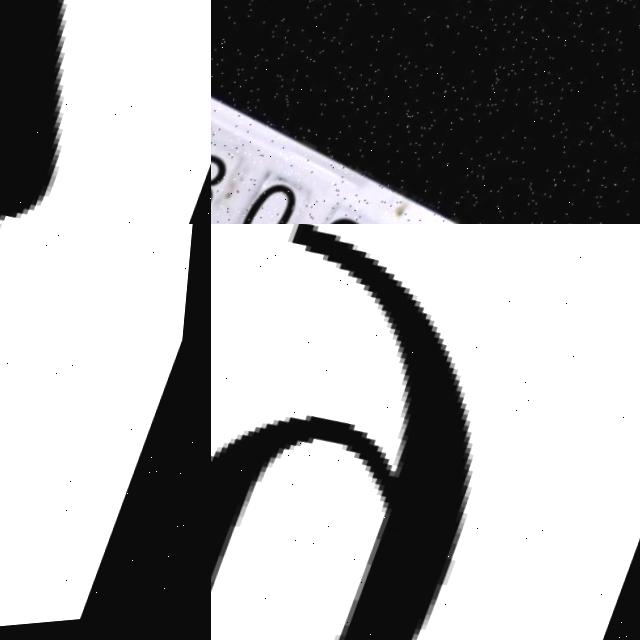0: (226, 159, 328, 224)
2: (294, 197, 395, 224)
6: (211, 224, 576, 640)
8: (211, 125, 259, 224)
H: (0, 224, 64, 623)
Q: (0, 0, 191, 224)
